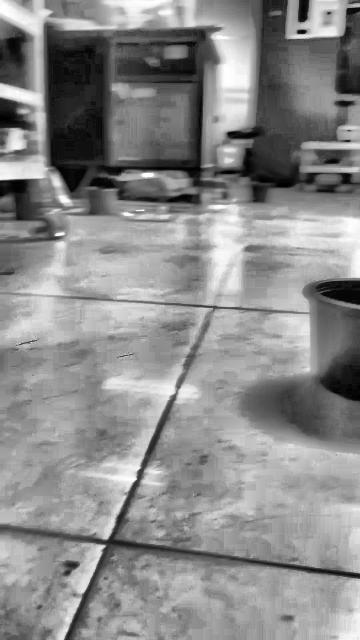pot: (305, 278, 360, 401)
